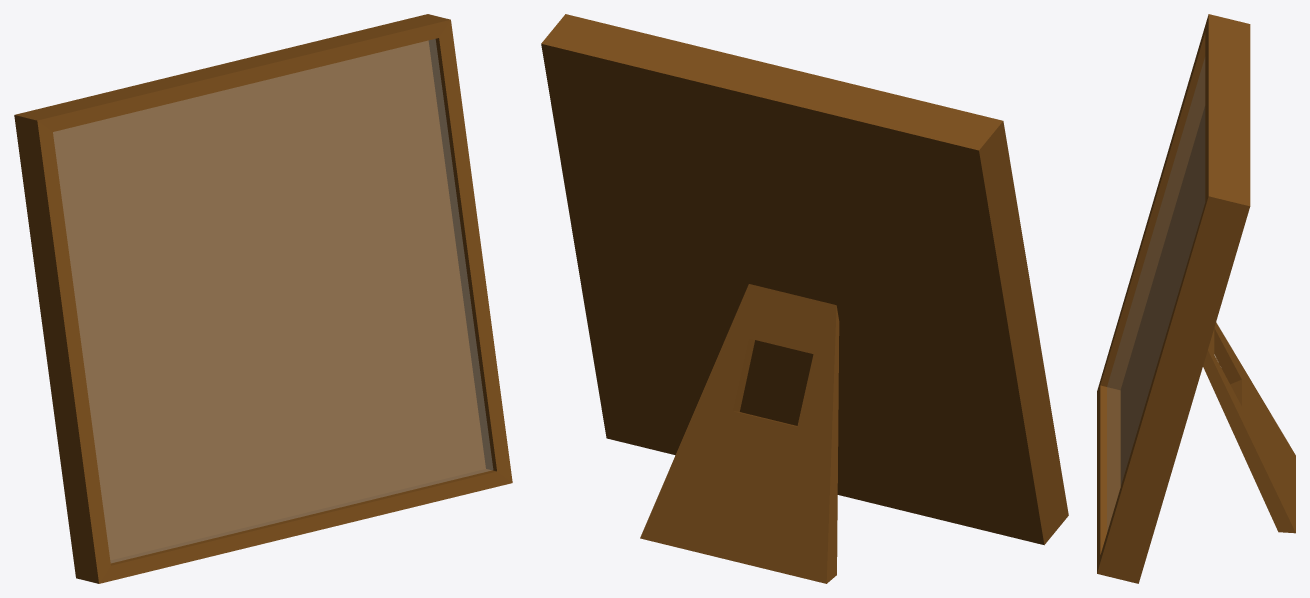
Rendered from Cadre_a_photo.fbx.
3 renders of one model, left to right at view 1: azimuth 30°, elevation 25°; view 2: azimuth 150°, elevation 25°; view 3: azimuth 270°, elevation 25°, orthographic. The views are drawn at different scales.
Parts seen in each view (by area): view 1: Cadre à photo, Transp; view 2: Cadre à photo; view 3: Cadre à photo, Transp.
Part boxes in pixels (x1=…): Cadre à photo: x1=14, y1=14, x2=512, y2=583; Transp: x1=53, y1=39, x2=492, y2=562; Cadre à photo: x1=541, y1=14, x2=1068, y2=583; Cadre à photo: x1=1097, y1=14, x2=1295, y2=583; Transp: x1=1107, y1=59, x2=1204, y2=531.
Size of the model in its own units: 200 by 199 by 92.26.
